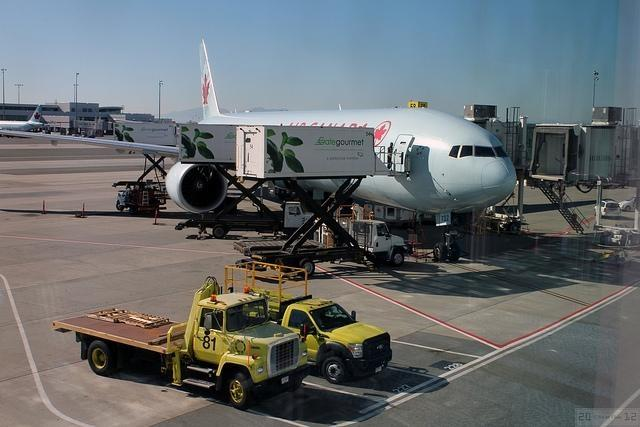car: (593, 199, 622, 218), (618, 195, 636, 212)
truck: (51, 260, 392, 410), (254, 221, 406, 275), (174, 201, 313, 238), (110, 179, 172, 218), (114, 123, 178, 146)
